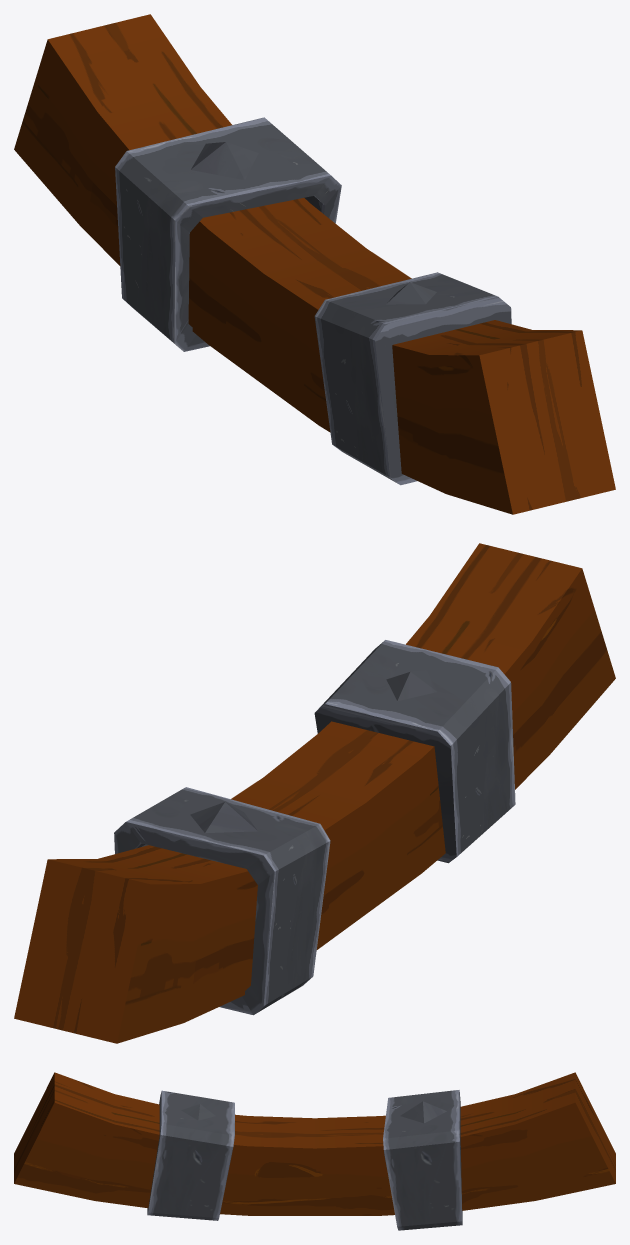
Rendered from SM_BLD_beam_big_v01_01.fbx.
The picture shows the model from 3 angles, top to bottom: view 1: azimuth 30°, elevation 25°; view 2: azimuth 150°, elevation 25°; view 3: azimuth 270°, elevation 25°; orthographic projection. The views are drawn at different scales.
Visible parts, largest first — view 1: SM_BLD_beam_big_v01_01; view 2: SM_BLD_beam_big_v01_01; view 3: SM_BLD_beam_big_v01_01.
Boxes of the visible parts, <box> form: SM_BLD_beam_big_v01_01: <box>14,14,615,514</box>; SM_BLD_beam_big_v01_01: <box>14,543,615,1043</box>; SM_BLD_beam_big_v01_01: <box>14,1072,615,1230</box>.
Size of the model in its own units: 164 by 197 by 864.
